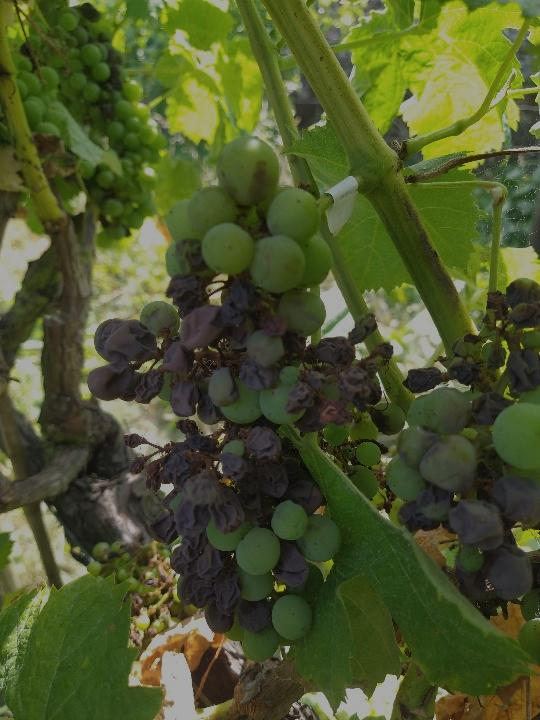grape: (87, 134, 404, 665), (15, 10, 157, 245)
